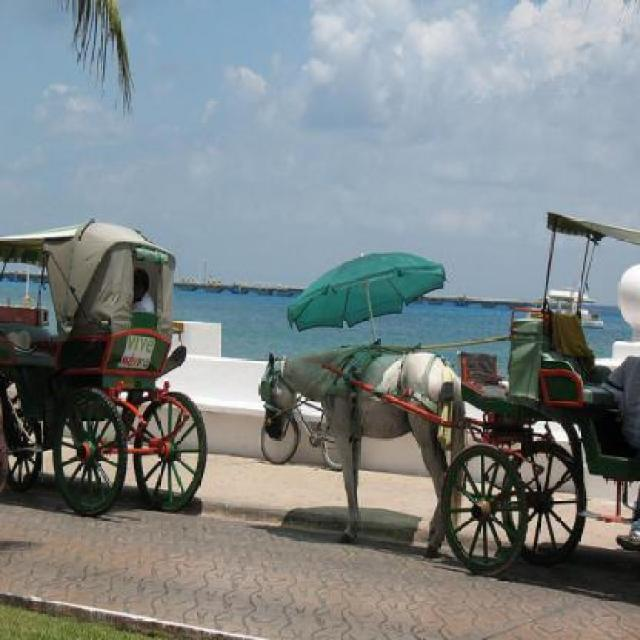ship: (522, 280, 604, 329)
